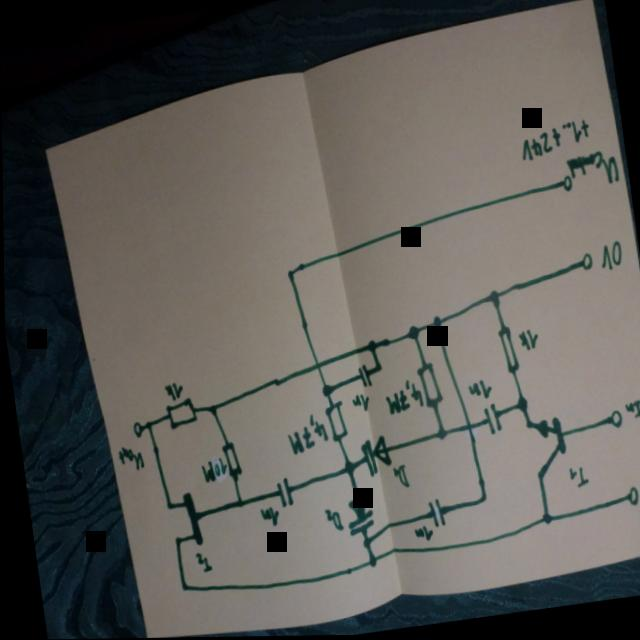capacitor: (479, 403, 501, 437), (272, 476, 292, 510), (424, 498, 444, 531), (353, 363, 371, 391)
crossover: (311, 360, 322, 372), (462, 422, 472, 433)
diode: (340, 490, 374, 538), (356, 435, 392, 478)
junction: (340, 459, 355, 477), (513, 396, 527, 415), (404, 325, 419, 342), (487, 289, 499, 309), (434, 427, 448, 443), (319, 383, 333, 398), (365, 555, 377, 570), (364, 339, 376, 354), (538, 512, 550, 527), (430, 315, 441, 331), (284, 268, 295, 283), (359, 537, 370, 550), (371, 363, 382, 374), (207, 403, 216, 416), (177, 581, 186, 593), (477, 494, 486, 506), (234, 498, 243, 509), (143, 419, 151, 430)
resistor: (412, 361, 443, 413), (493, 326, 520, 378), (162, 397, 197, 431), (322, 400, 347, 444), (218, 439, 241, 480)
terminal: (606, 409, 622, 432), (622, 487, 638, 509), (577, 253, 593, 274), (558, 175, 572, 195), (129, 421, 141, 440)
text: (517, 120, 591, 163), (564, 150, 619, 191), (282, 413, 328, 456), (380, 379, 423, 416), (596, 241, 624, 274), (197, 456, 226, 484), (115, 444, 143, 473), (463, 378, 492, 403), (621, 398, 640, 436), (565, 465, 588, 491), (321, 506, 342, 534), (256, 505, 280, 529), (515, 329, 538, 354), (389, 464, 408, 492), (161, 381, 183, 402), (192, 550, 211, 574), (348, 394, 369, 414), (411, 525, 432, 543), (633, 476, 640, 515)
transistor: (523, 415, 567, 480), (162, 490, 202, 551)
